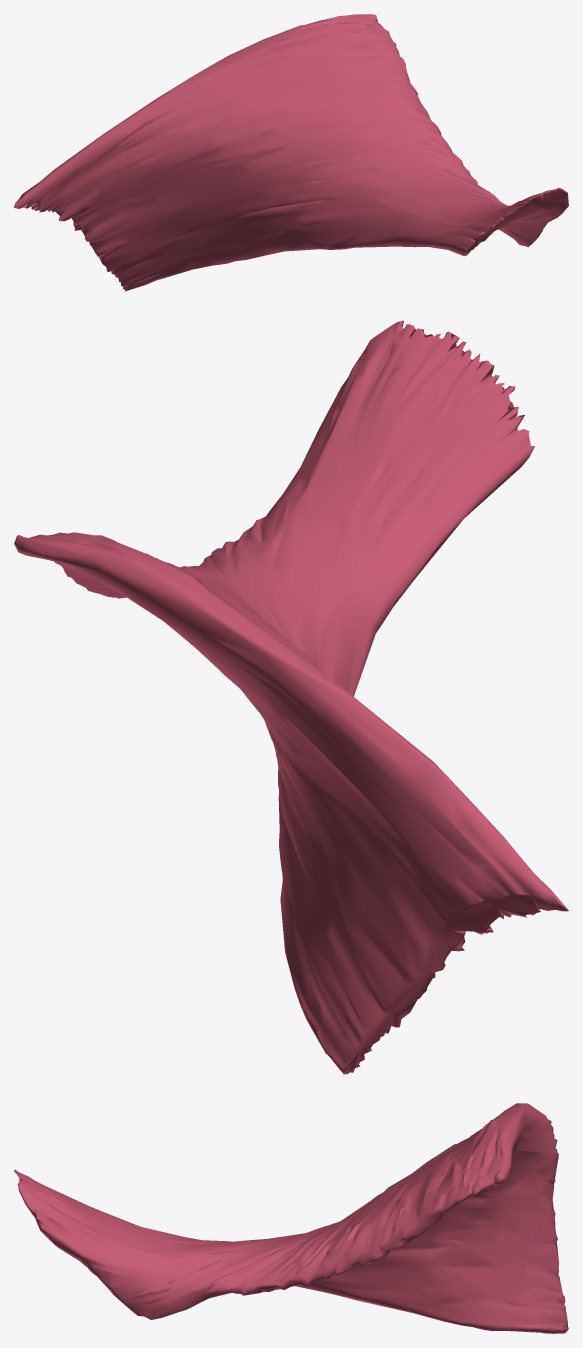
3 views of the same model, one above another, from view 1: azimuth 30°, elevation 25°; view 2: azimuth 150°, elevation 25°; view 3: azimuth 270°, elevation 25° (orthographic). The views are drawn at different scales.
Visible parts, largest first — view 1: 右侧斜方肌升部; view 2: 右侧斜方肌升部; view 3: 右侧斜方肌升部.
Part boxes in pixels (x1,y1,x2,y2): 右侧斜方肌升部: (14,14,568,291); 右侧斜方肌升部: (14,320,568,1074); 右侧斜方肌升部: (14,1103,568,1333).
Bounding box in the file's own units: 0.1991 × 0.1357 × 0.2346.
